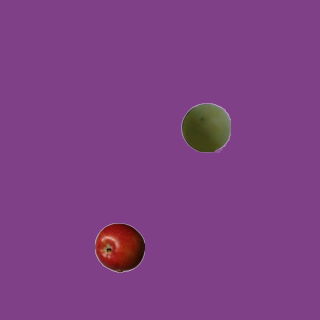Apple Braeburn: (94, 222, 144, 272)
Grape White 4: (180, 102, 230, 152)
